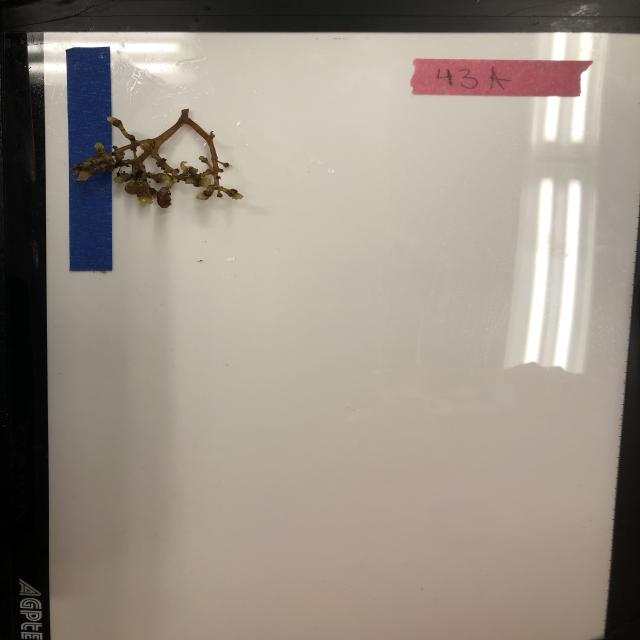index: (411, 56, 597, 98)
measure_label: (64, 44, 114, 274)
rachis_cluster: (62, 105, 248, 208)
